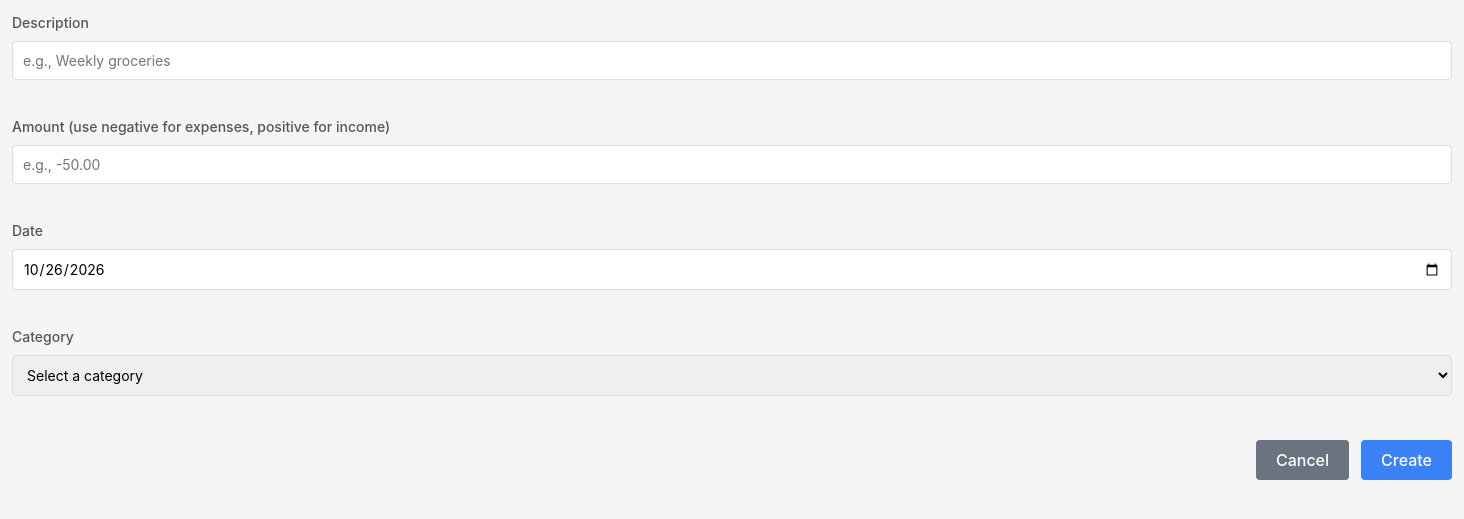
Test: TransactionForm › shows validation error when category is not selected
In the field labelled "Description": (732,60) [12,41,1452,80], type "Test transaction"
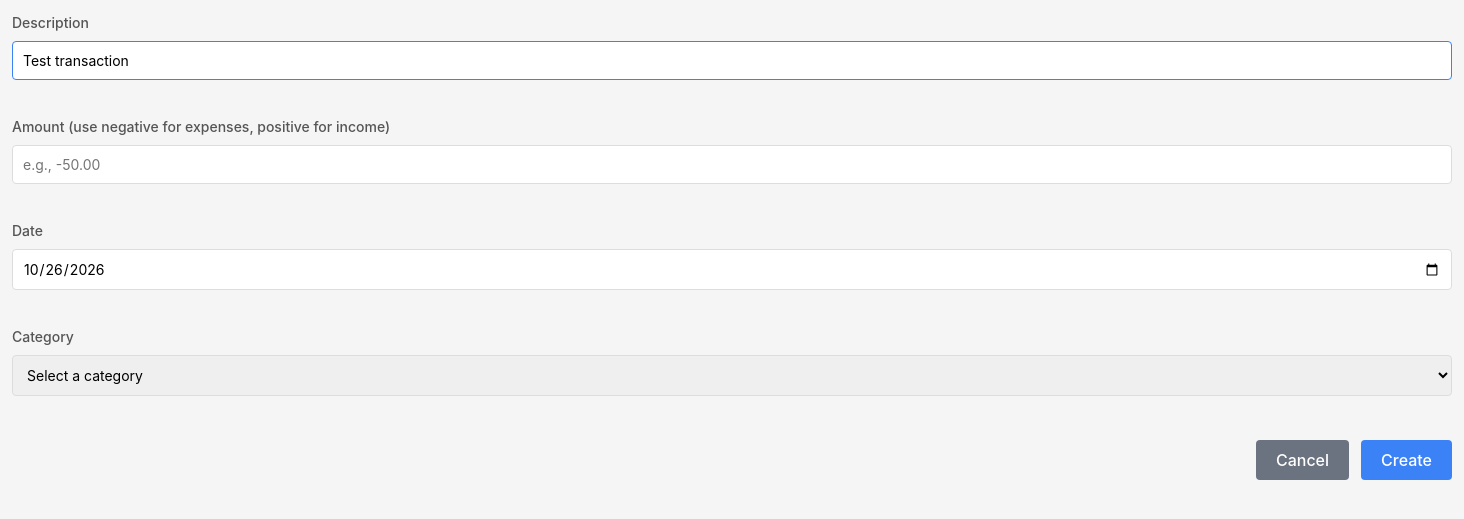
In the number field labelled "Amount (use negative for expenses, positive for income)": (732,164) [12,145,1452,184], type "-50"
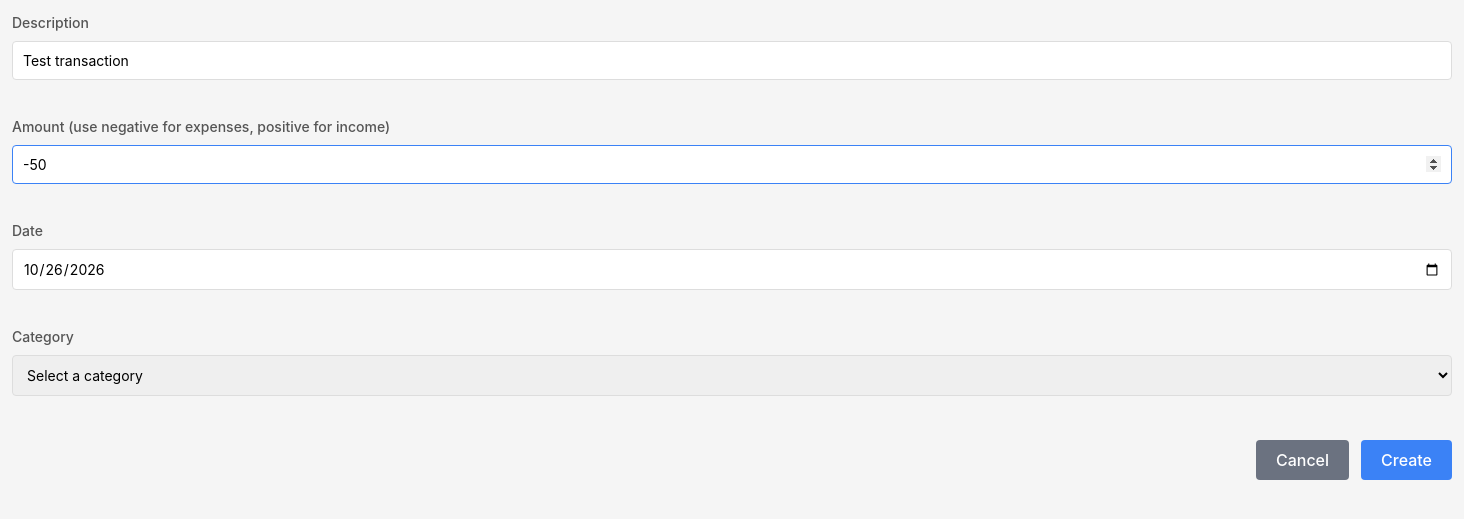
Click the button "Create": (1406,460) [1361,440,1452,480]
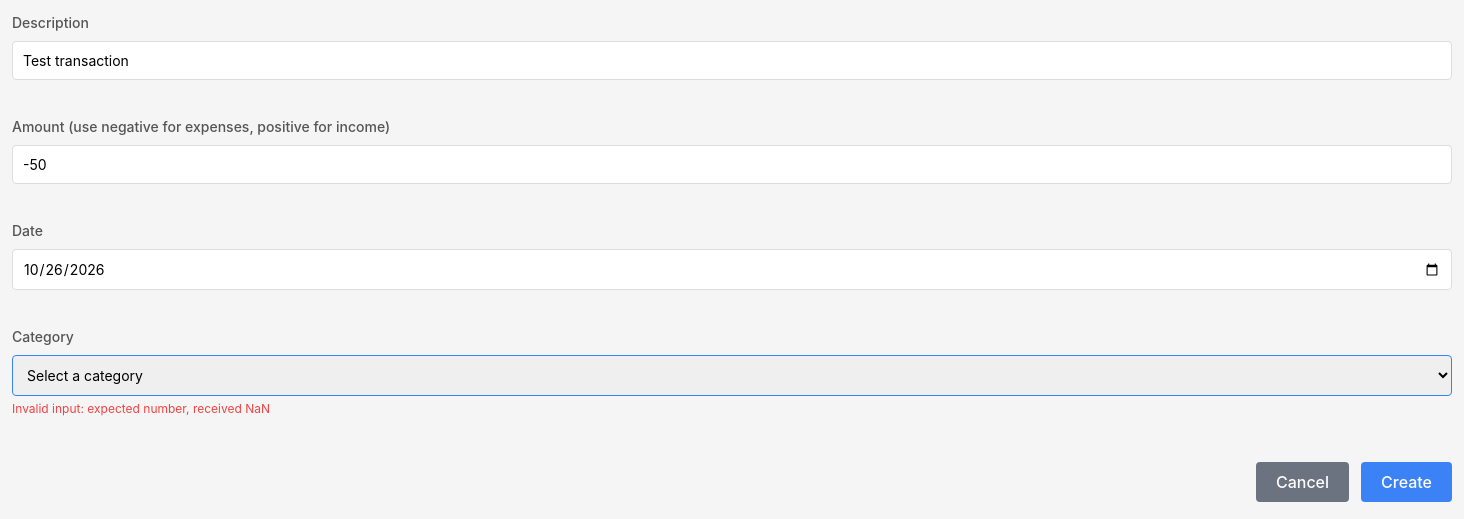
Now the text "Invalid input" is shown, box [12,401,270,416]
